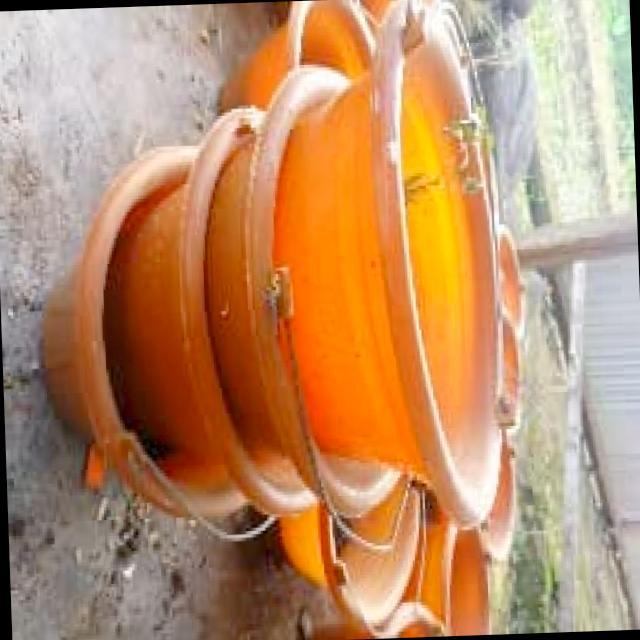HDPE Plastic: (300, 16, 506, 528), (36, 138, 254, 528), (222, 63, 403, 524), (126, 102, 319, 526), (278, 485, 424, 620), (218, 0, 374, 112), (417, 519, 503, 621), (477, 442, 528, 556), (482, 312, 526, 432), (494, 221, 532, 340)
